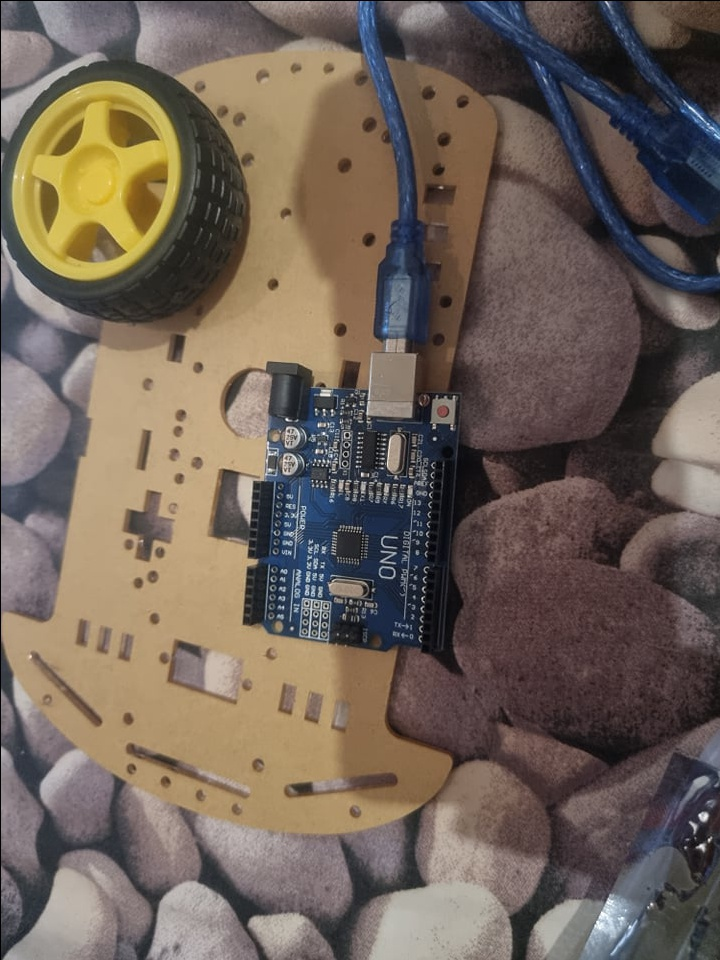UNO R3: (241, 349, 459, 654)
